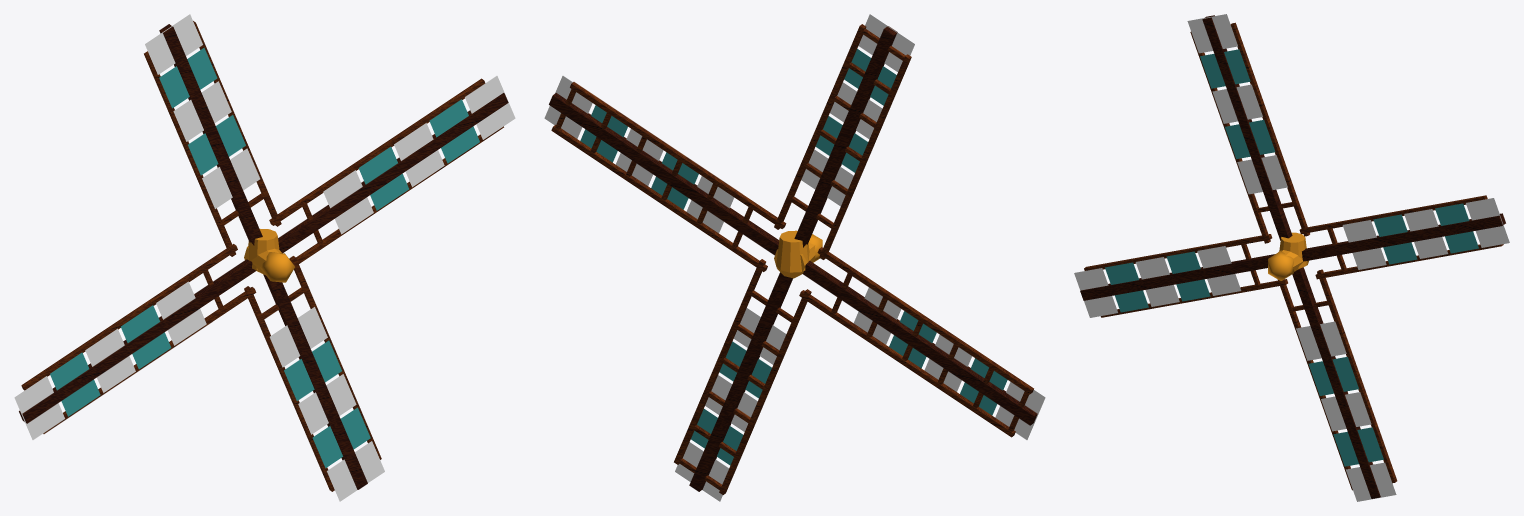
File: windmill_rotor.glb
3 views of the same model, side by side, from view 1: azimuth 30°, elevation 25°; view 2: azimuth 150°, elevation 25°; view 3: azimuth 330°, elevation 25° (orthographic). The views are drawn at different scales.
Visible parts, largest first — view 1: windmill_rotor; view 2: windmill_rotor; view 3: windmill_rotor.
Part boxes in pixels (<box>): windmill_rotor: <box>14,14,515,501</box>; windmill_rotor: <box>544,14,1045,501</box>; windmill_rotor: <box>1074,14,1509,501</box>.
Size of the model in its own units: 6.56 by 6.56 by 0.7102.
3 materials, 1 textured.
